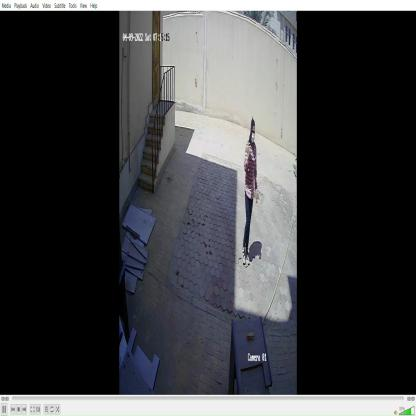handgun: (245, 113, 258, 160)
